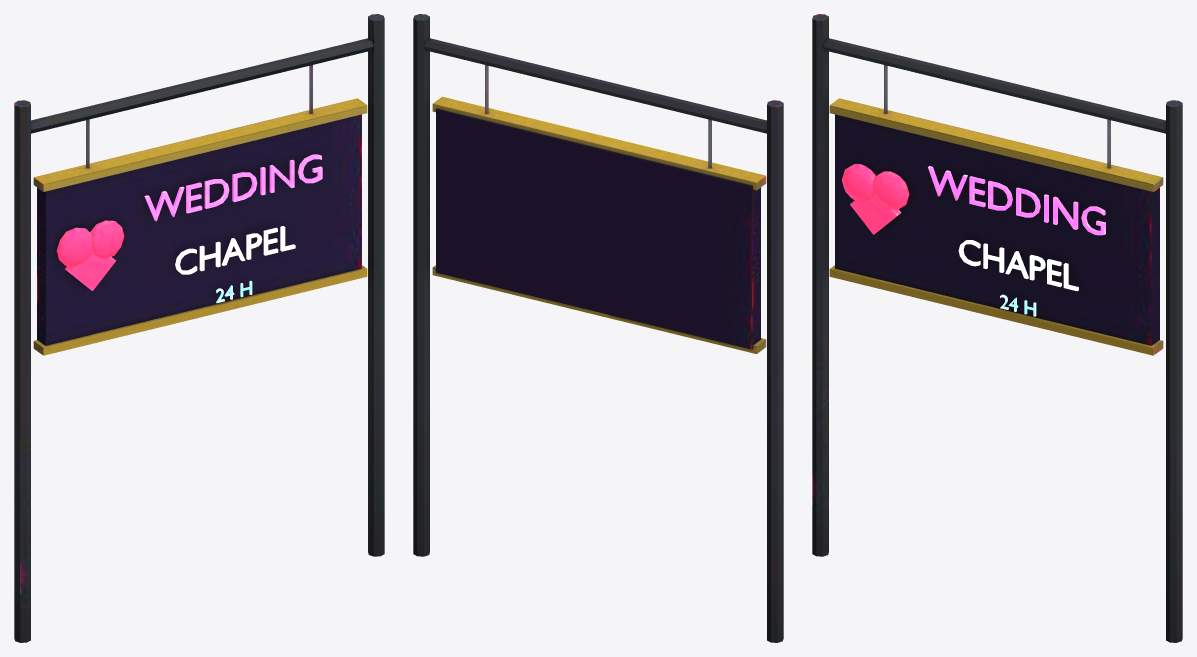
File: cartel_boda.glb
The picture shows the model from 3 angles, left to right: view 1: azimuth 30°, elevation 25°; view 2: azimuth 150°, elevation 25°; view 3: azimuth 330°, elevation 25°; orthographic projection.
Visible parts, largest first — view 1: cartel_boda; view 2: cartel_boda; view 3: cartel_boda.
Part boxes in pixels (x1,y1,x2,y2): cartel_boda: (14,14,384,642); cartel_boda: (413,14,783,642); cartel_boda: (812,14,1182,642).
Size of the model in its own units: 1.98 by 2.75 by 0.14.
1 material, 1 textured.
